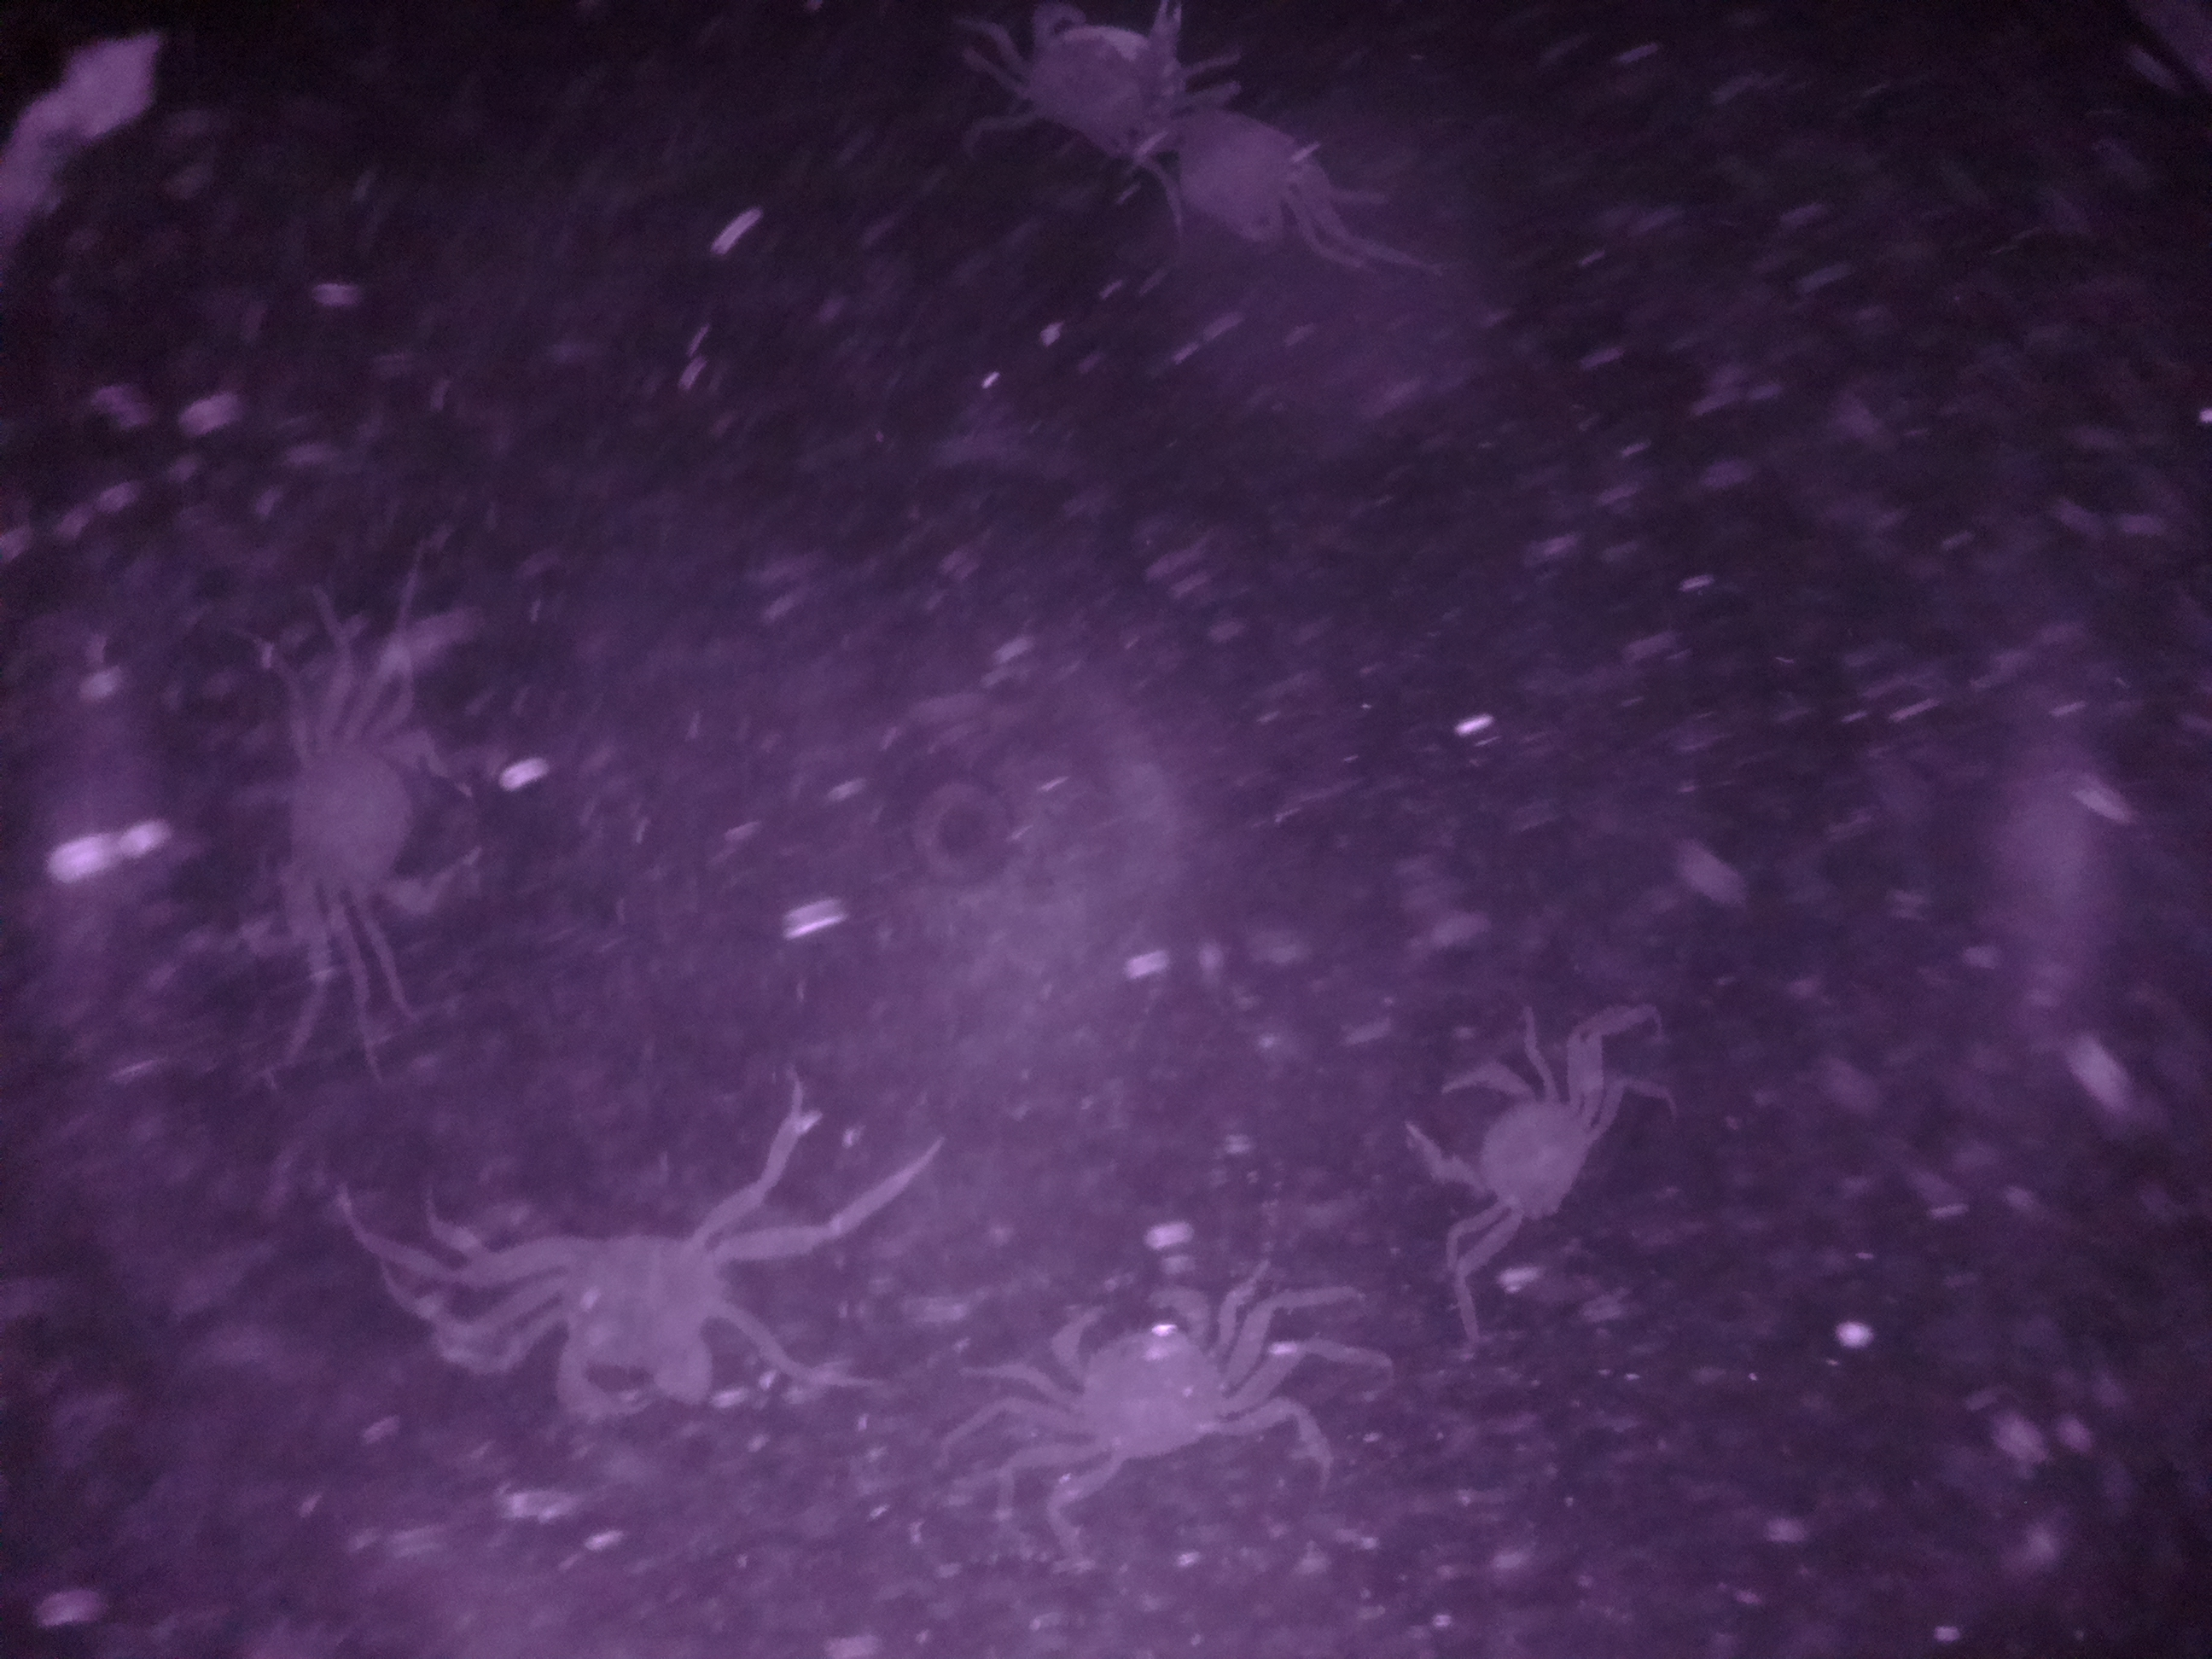Crab: (247, 671, 531, 976), (996, 1258, 1261, 1502), (514, 1201, 761, 1453), (1369, 1046, 1639, 1255)
